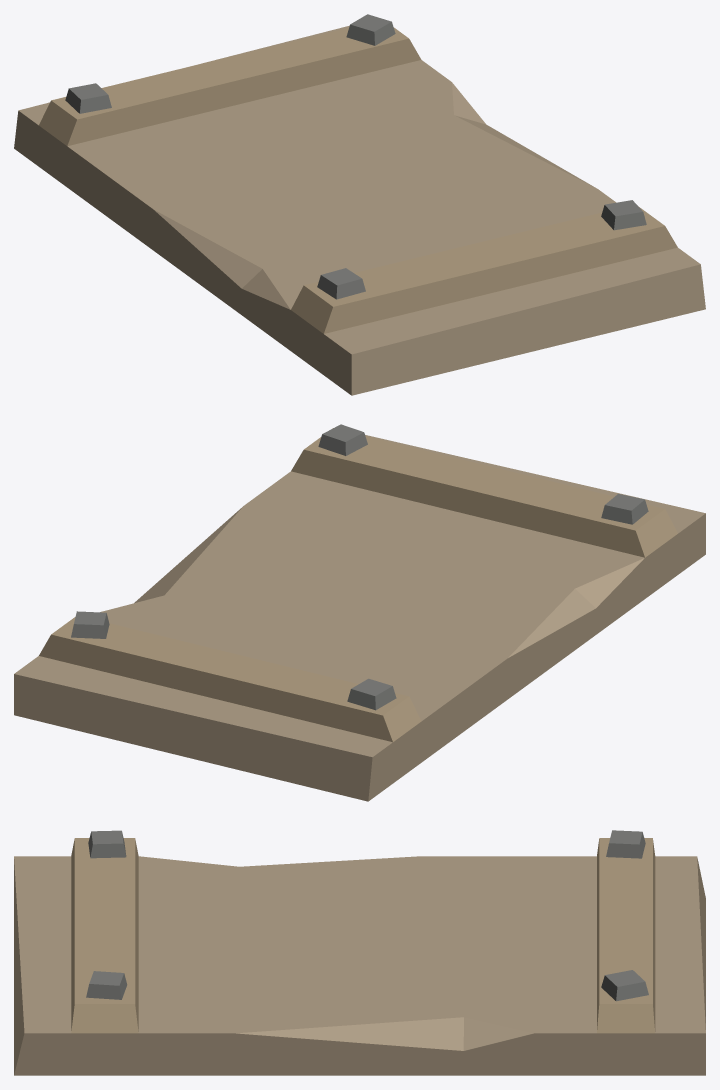
The model's file is apoc_SM_Prop_Crate_Open_Lid_04.gltf.
The picture shows the model from 3 angles, top to bottom: view 1: azimuth 30°, elevation 25°; view 2: azimuth 150°, elevation 25°; view 3: azimuth 270°, elevation 25°; orthographic projection. The views are drawn at different scales.
Visible parts, largest first — view 1: SM_Prop_Crate_Open_Lid_04; view 2: SM_Prop_Crate_Open_Lid_04; view 3: SM_Prop_Crate_Open_Lid_04.
Boxes of the visible parts, box(x1,y1,x2,y2) form: SM_Prop_Crate_Open_Lid_04: box(14, 14, 705, 395); SM_Prop_Crate_Open_Lid_04: box(14, 424, 705, 801); SM_Prop_Crate_Open_Lid_04: box(14, 830, 705, 1075).
Bounding box in the file's own units: 0.4095 × 0.085 × 0.6759.
Materials: 1 (1 with a texture image).
